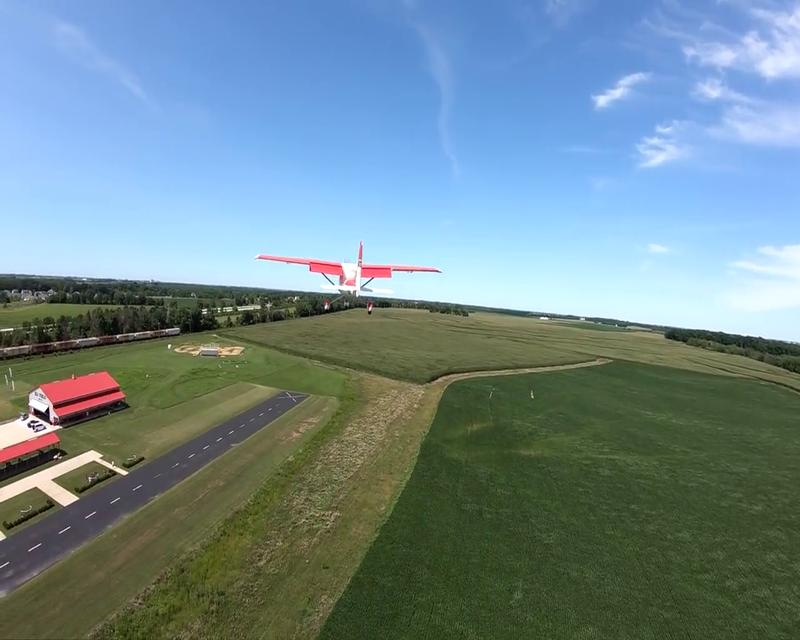UAV: (254, 240, 442, 315)
